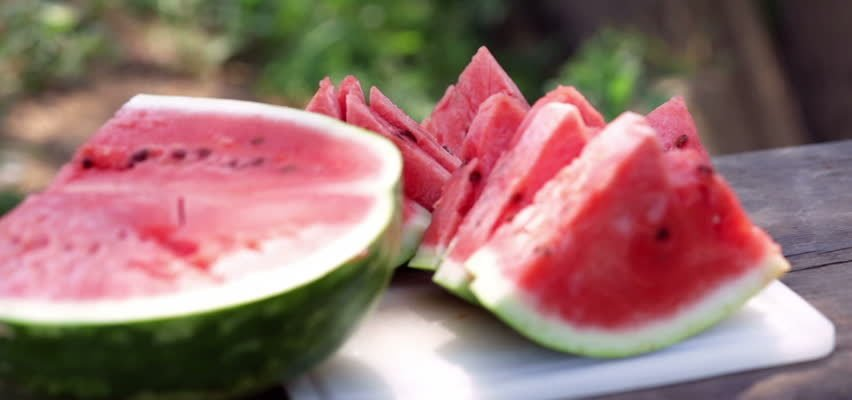Semangka: (10, 93, 412, 370), (454, 131, 734, 328)
